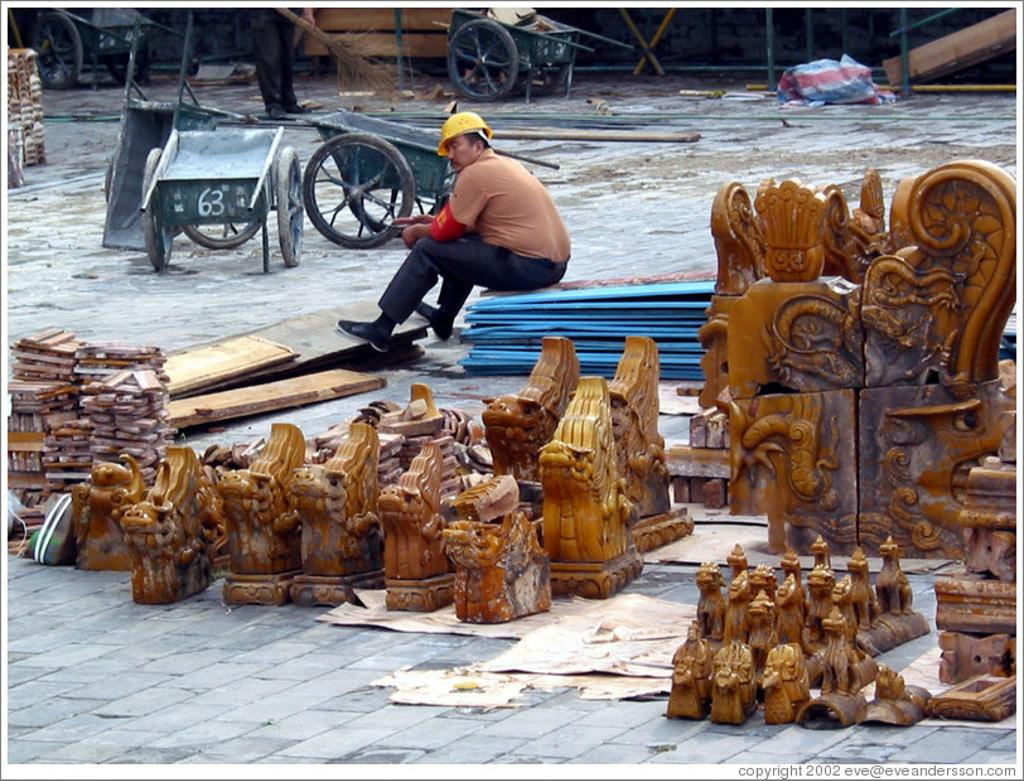face: (443, 135, 473, 171)
